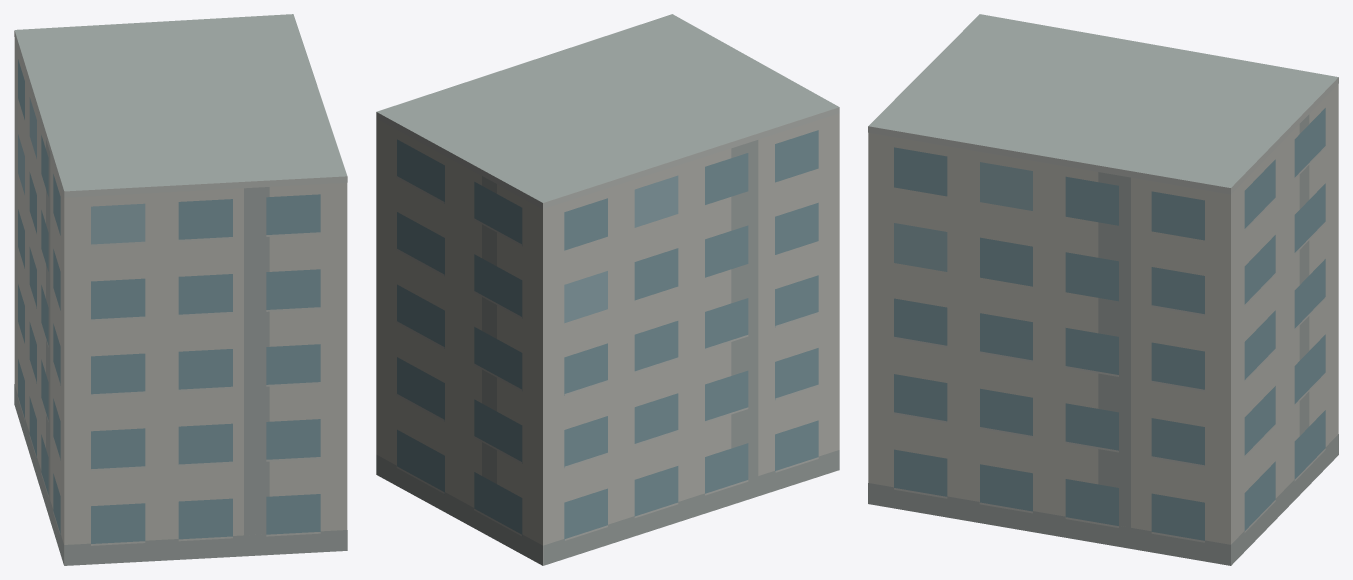
The model's file is survey-upis-33037794.glb.
The picture shows the model from 3 angles, left to right: view 1: azimuth 30°, elevation 25°; view 2: azimuth 150°, elevation 25°; view 3: azimuth 270°, elevation 25°; orthographic projection. The views are drawn at different scales.
Visible parts, largest first — view 1: survey-upis-33037794.tmp; view 2: survey-upis-33037794.tmp; view 3: survey-upis-33037794.tmp.
Boxes of the visible parts, x1,y1,x2,y2 form: survey-upis-33037794.tmp: [14, 14, 347, 565]; survey-upis-33037794.tmp: [376, 14, 839, 565]; survey-upis-33037794.tmp: [868, 14, 1338, 565].
Size of the model in its own units: 14.05 by 14.2 by 16.04.
